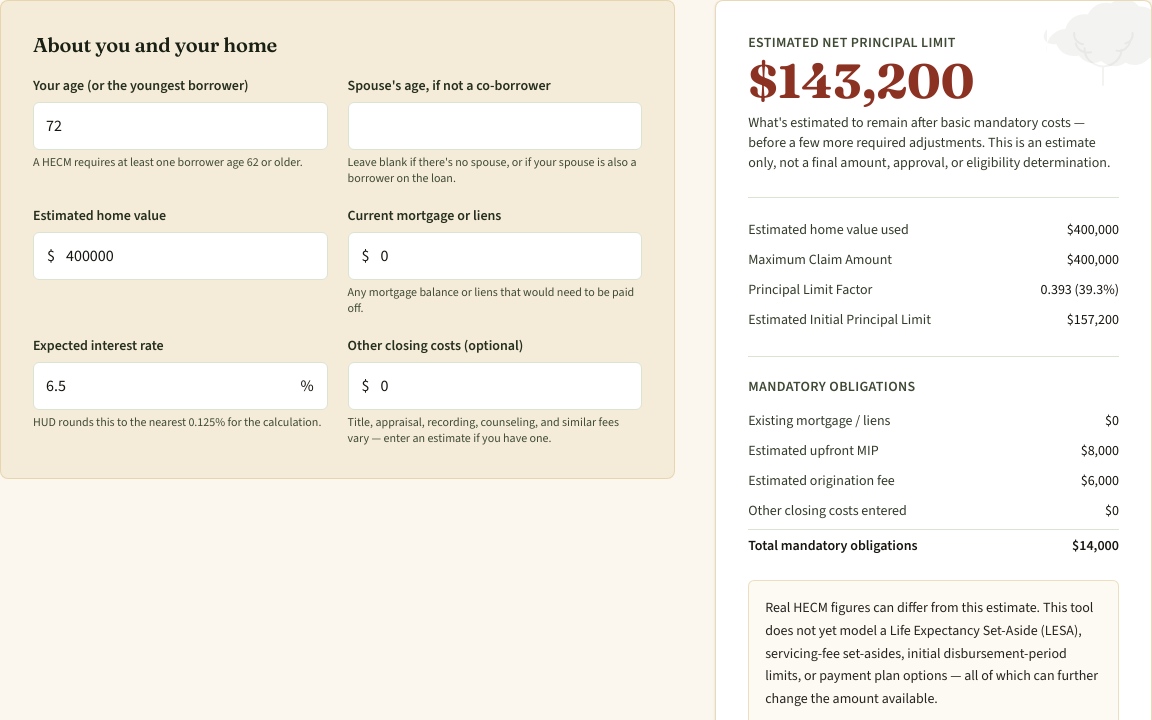
Test case: HomeEquityExplorer — renders and calculates › shows a clear validation message instead of results for invalid input, without crashing
The width and height of the screenshot is (1152, 720).
Clear the number field labelled "Your age (or the youngest borrower)": x=180, y=126 [33,102,328,150]
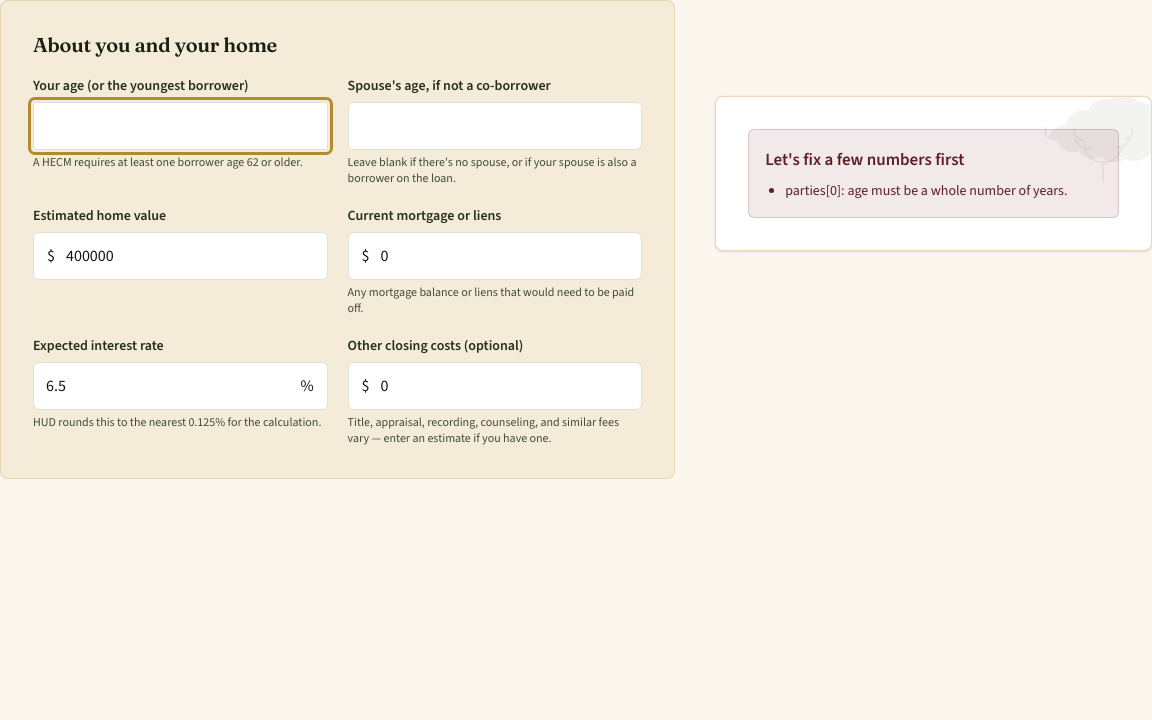
Expected: the text "Let's fix a few numbers first" is shown, [765,148,964,171]
Expected: the text "Estimated net principal limit" is gone
